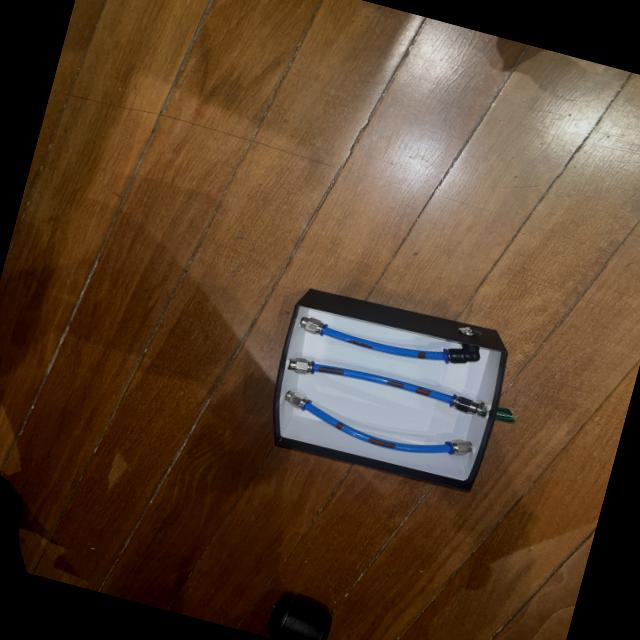hose_damage: (365, 435, 397, 451), (346, 338, 374, 350), (316, 365, 345, 376), (412, 385, 432, 398), (384, 378, 406, 389), (333, 420, 346, 432), (414, 350, 428, 361)
